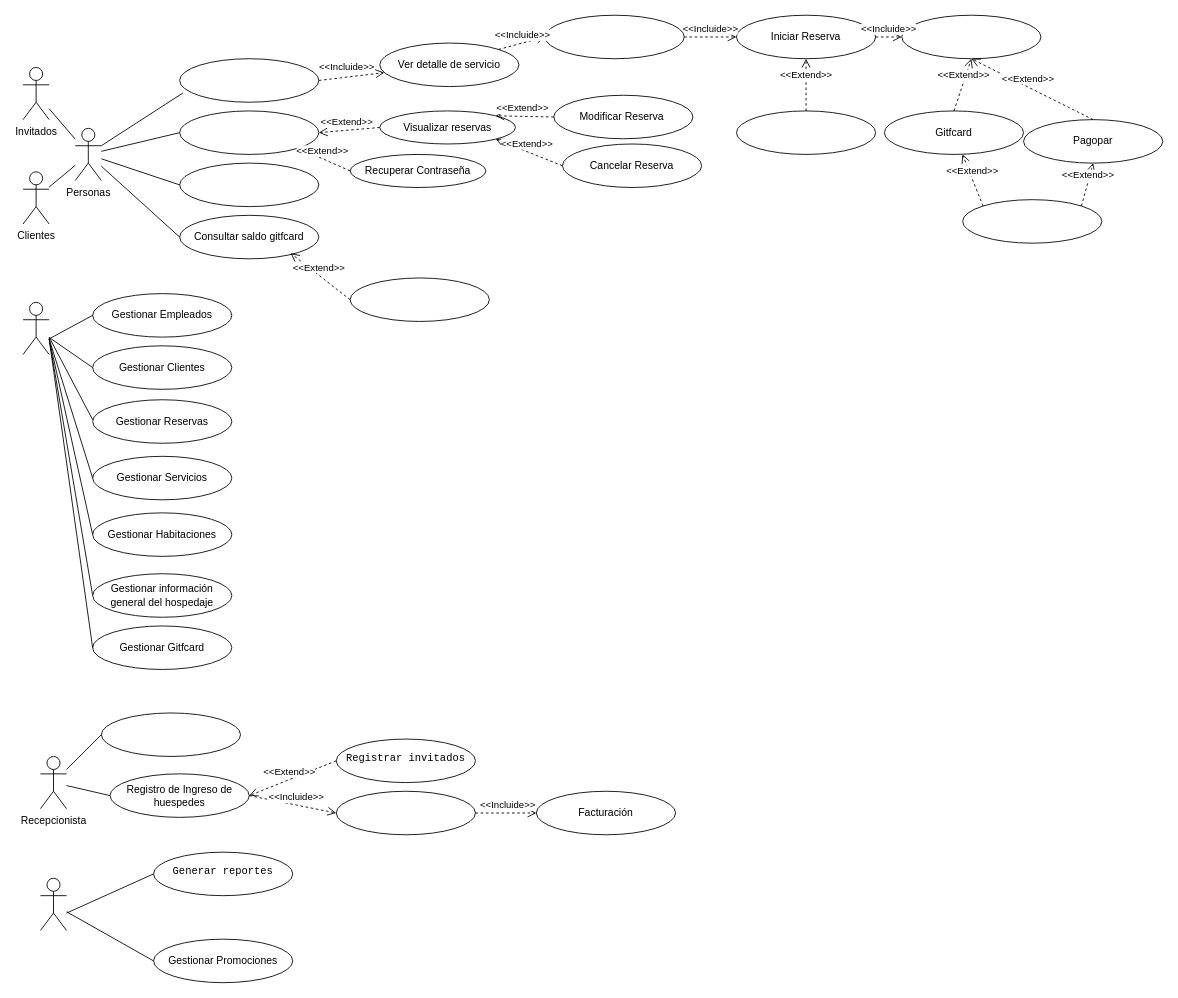
The diagram is 1178 pixels wide and 998 high, and some of its shapes have lost their labels. Each missing label, with the box of its shape:
Admin: (22, 301, 49, 355)
Analista: (40, 877, 67, 930)
Cargar saldo: (349, 277, 489, 321)
Completar datos de reserva: (736, 110, 876, 154)
Confirmar Reserva: (962, 199, 1102, 243)
Consultar disponibilidad: (544, 14, 684, 59)
Consultar reservas: (100, 712, 241, 756)
Login: (179, 110, 319, 154)
Realizar Pago: (901, 14, 1041, 59)
Registrarse: (179, 162, 319, 207)
Registro de salida de huespedes: (335, 790, 475, 835)
Visualizar servicios: (179, 58, 319, 102)
